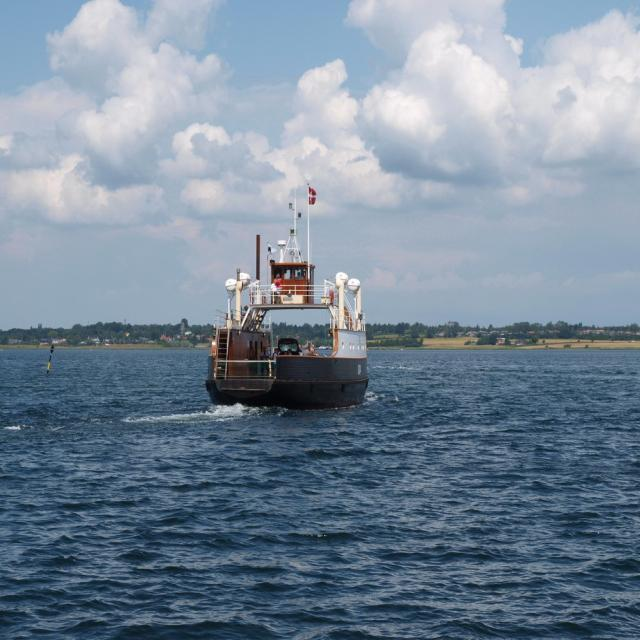houseboat: (205, 248, 369, 411)
